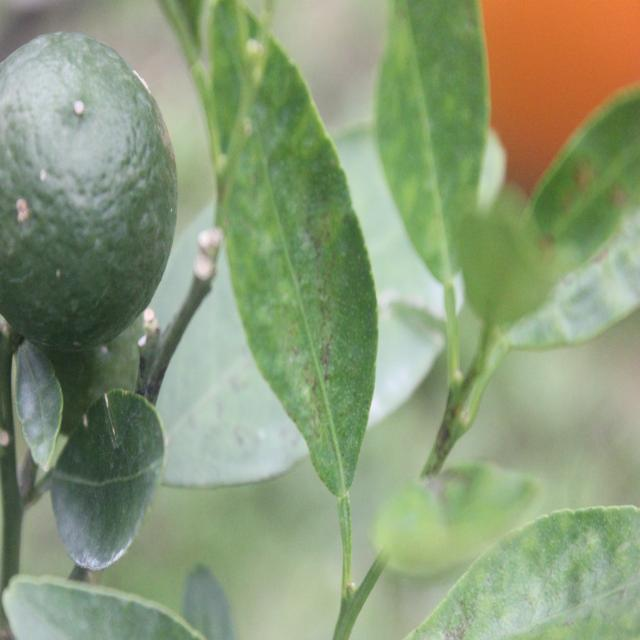blackspot: (230, 68, 390, 496)
